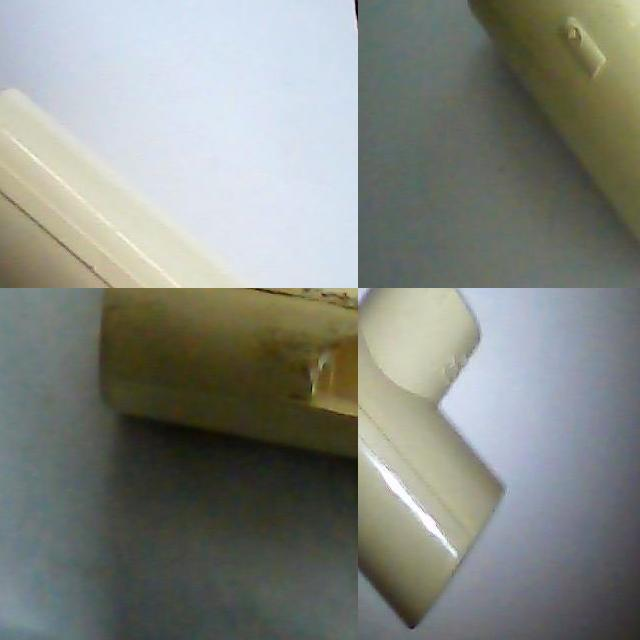Defective: (329, 289, 358, 442), (298, 341, 336, 414)
T Joint: (358, 288, 507, 631), (0, 89, 254, 288), (98, 288, 358, 465)
